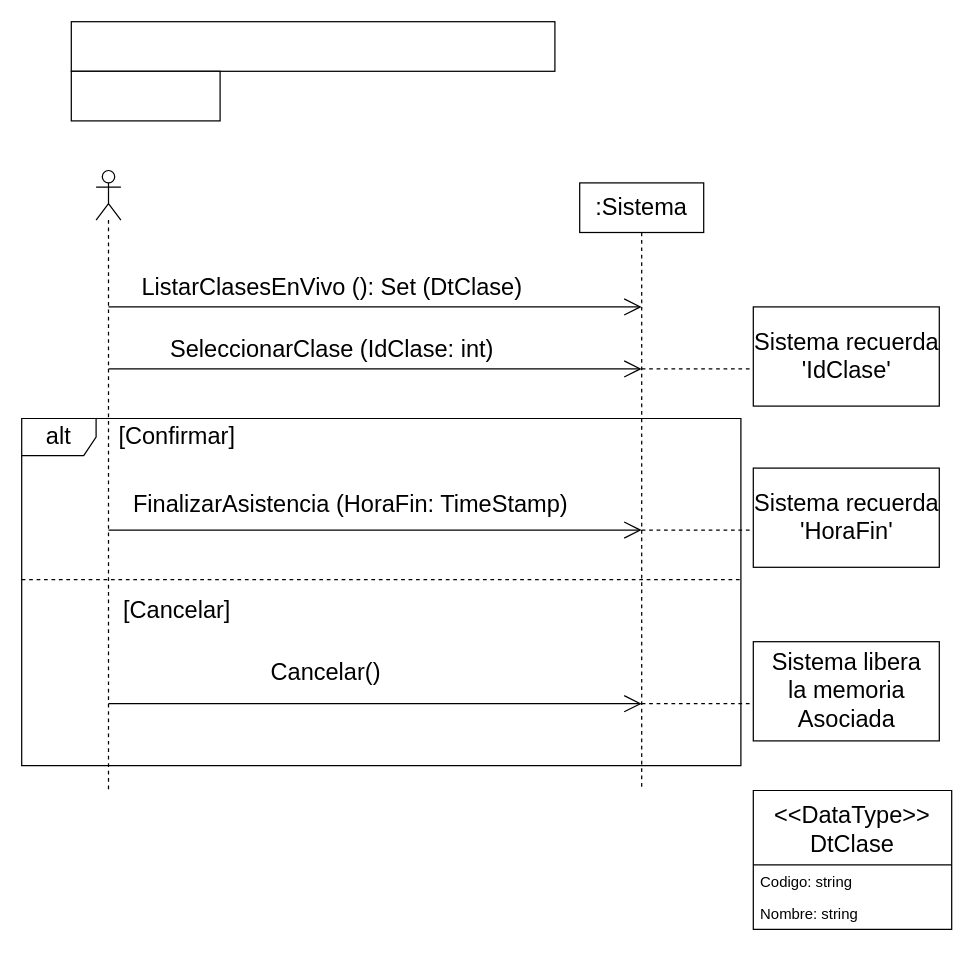
This 973x955 diagram has some shape labels left out. The box of each missing label's shape, as (x1, y1, x2, y2) in pixels:
Con memoria: (70, 70, 220, 121)
Estudiante: (95, 169, 121, 790)
Finalizacion de Asistencia a Clase en Vivo: (70, 20, 555, 71)
